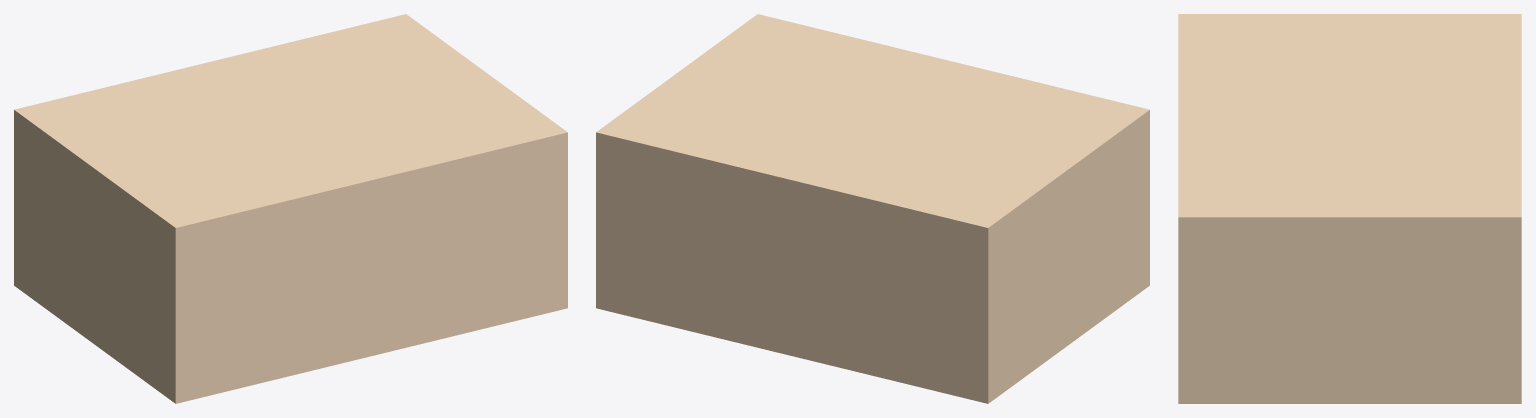
The model's file is tofu-raw.glb.
The picture shows the model from 3 angles, left to right: view 1: azimuth 30°, elevation 25°; view 2: azimuth 150°, elevation 25°; view 3: azimuth 270°, elevation 25°; orthographic projection. The views are drawn at different scales.
Parts seen in each view (by area): view 1: tofu-raw; view 2: tofu-raw; view 3: tofu-raw.
Part boxes in pixels (bbox=[...]): tofu-raw: bbox=[14, 14, 567, 403]; tofu-raw: bbox=[596, 14, 1149, 403]; tofu-raw: bbox=[1178, 14, 1521, 403].
Size of the model in its own units: 0.14 by 0.06 by 0.1.
Materials: 1 (1 with a texture image).
